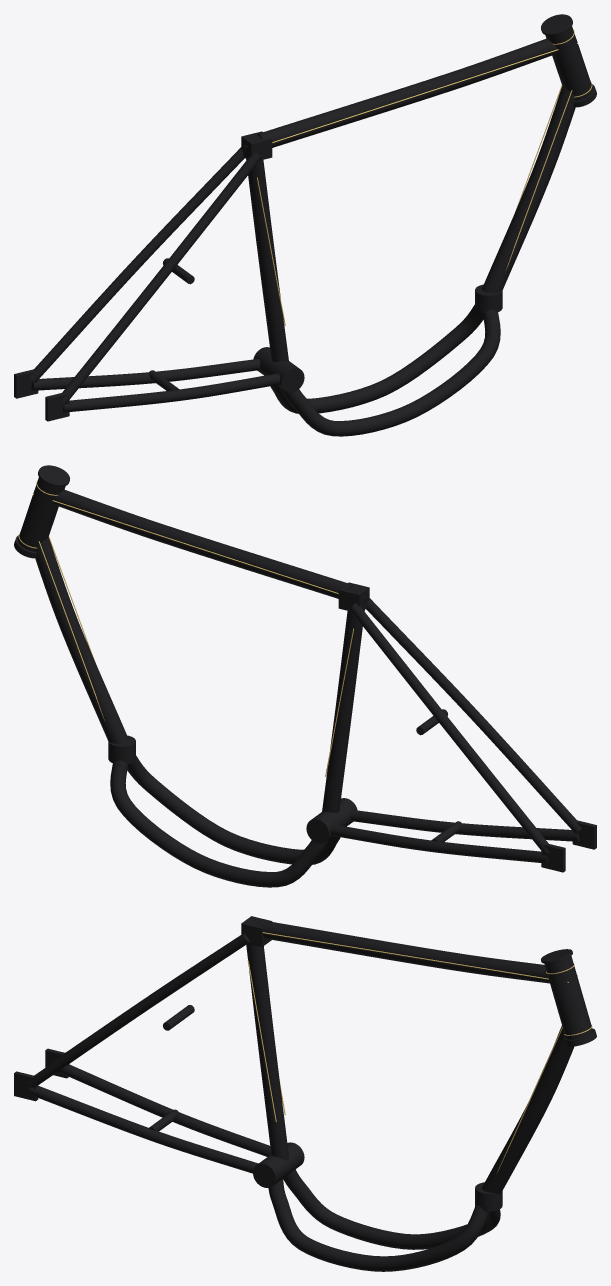
File: bike_pioneer__frame.glb
3 renders of one model, top to bottom at view 1: azimuth 30°, elevation 25°; view 2: azimuth 150°, elevation 25°; view 3: azimuth 330°, elevation 25°, orthographic.
Parts seen in each view (by area): view 1: frame_body__frame__tubes, frame_body__frame__head_tube, frame_body__frame__pinstripe; view 2: frame_body__frame__tubes, frame_body__frame__head_tube, frame_body__frame__pinstripe; view 3: frame_body__frame__tubes, frame_body__frame__head_tube, frame_body__frame__pinstripe.
Boxes of the visible parts, x1,y1,x2,y2 form: frame_body__frame__tubes: (14, 38, 575, 436); frame_body__frame__head_tube: (541, 14, 596, 107); frame_body__frame__pinstripe: (257, 29, 592, 325); frame_body__frame__tubes: (35, 489, 596, 887); frame_body__frame__head_tube: (14, 465, 69, 558); frame_body__frame__pinstripe: (18, 480, 353, 776); frame_body__frame__tubes: (14, 916, 574, 1271); frame_body__frame__head_tube: (541, 949, 596, 1046); frame_body__frame__pinstripe: (247, 932, 592, 1174).
Bounding box in the file's own units: 113 × 67.22 × 13.42.
